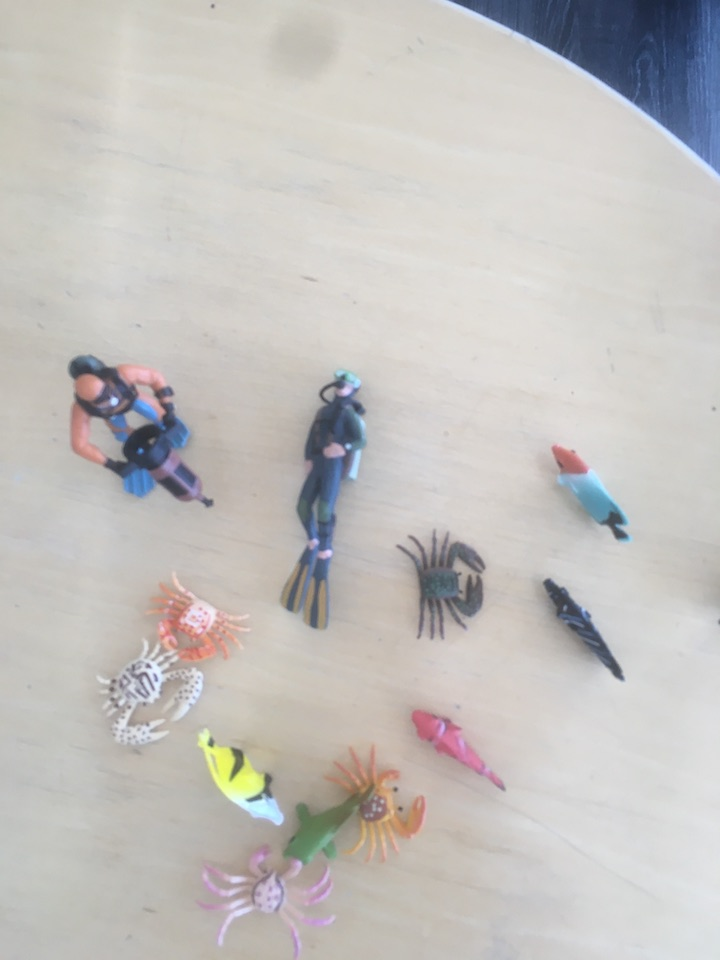crab: (189, 837, 346, 959), (316, 738, 431, 867), (92, 640, 208, 754), (391, 525, 491, 642), (141, 565, 255, 667)
danger: (190, 724, 291, 831)
diver: (277, 368, 372, 634), (64, 351, 220, 511)
fish: (539, 570, 628, 688), (279, 777, 381, 875), (405, 702, 512, 792), (548, 439, 635, 544)
